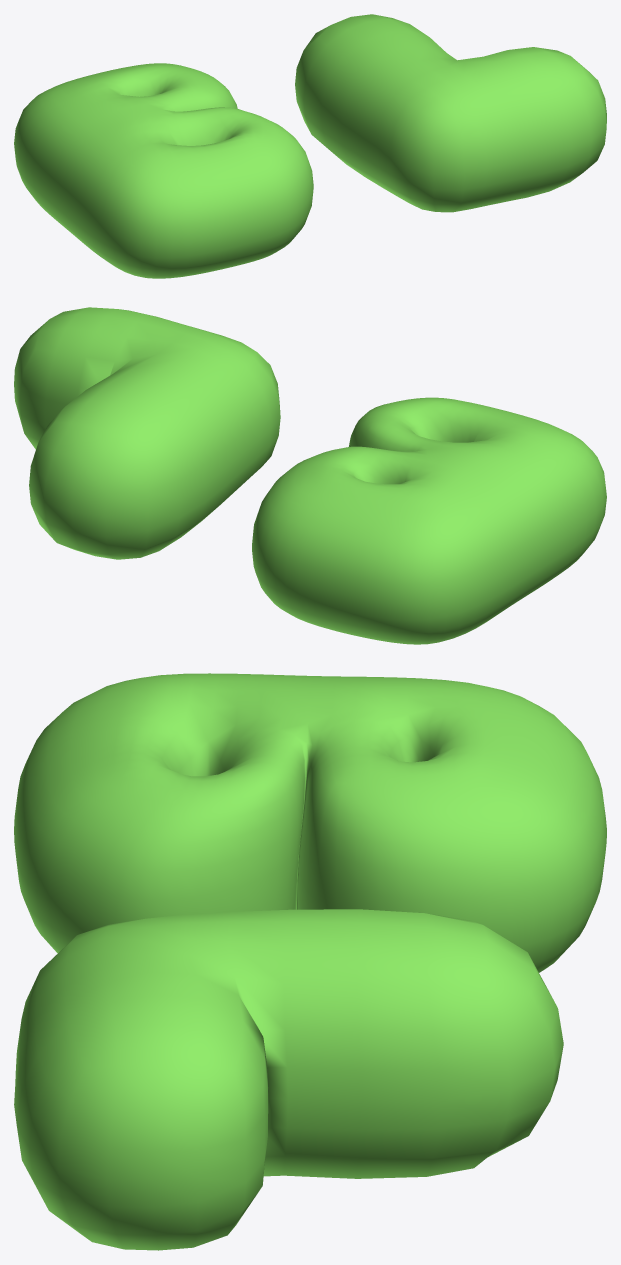
The model's file is Bubble Letters.fbx.
3 views of the same model, one above another, from view 1: azimuth 30°, elevation 25°; view 2: azimuth 150°, elevation 25°; view 3: azimuth 270°, elevation 25° (orthographic). The views are drawn at different scales.
Parts seen in each view (by area): view 1: B, L; view 2: B, L; view 3: L, B.
Boxes of the visible parts, left/top/right/bottom form: B: left=14, top=63, right=313, bottom=278; L: left=295, top=14, right=606, bottom=212; B: left=252, top=397, right=606, bottom=644; L: left=14, top=307, right=280, bottom=559; L: left=14, top=909, right=563, bottom=1250; B: left=14, top=673, right=606, bottom=972.
Bounding box in the file's own units: 177 × 45.99 × 101.
